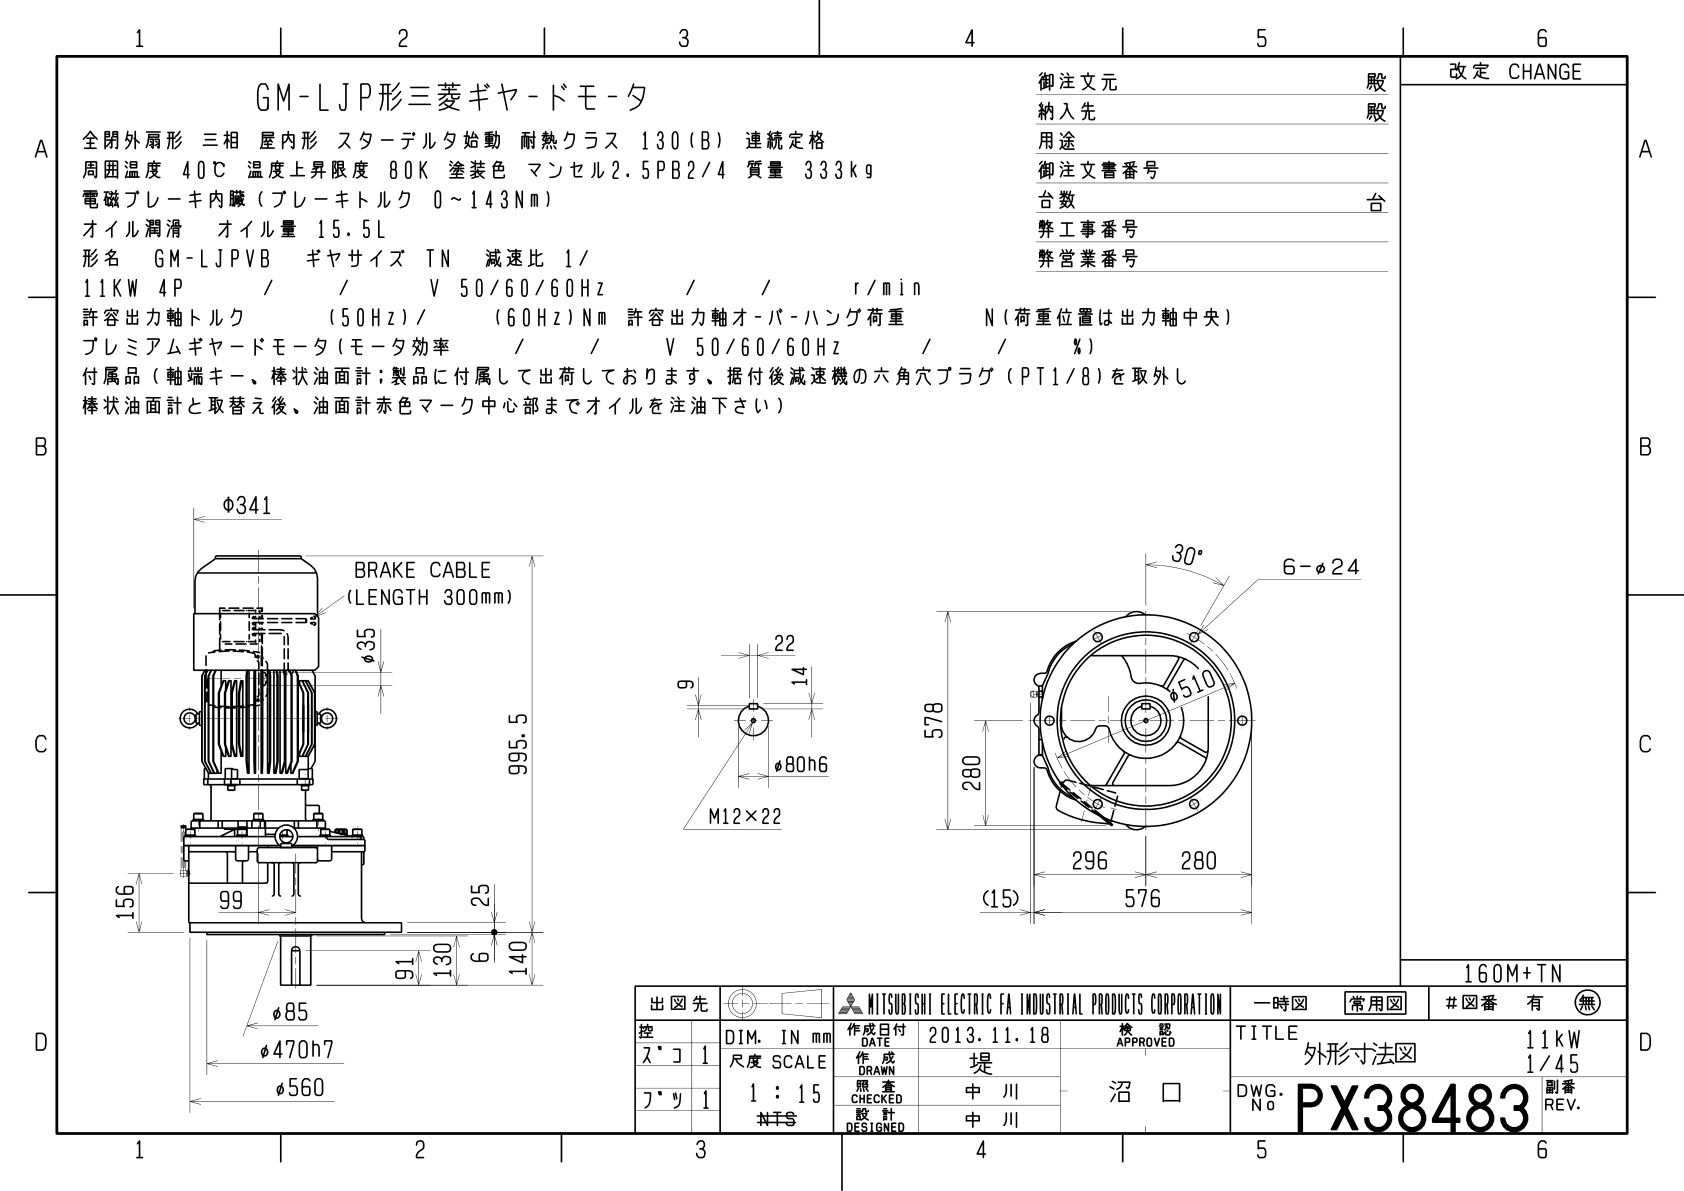GM_LJP_屋内_三相_立: (97, 447, 1381, 974)
